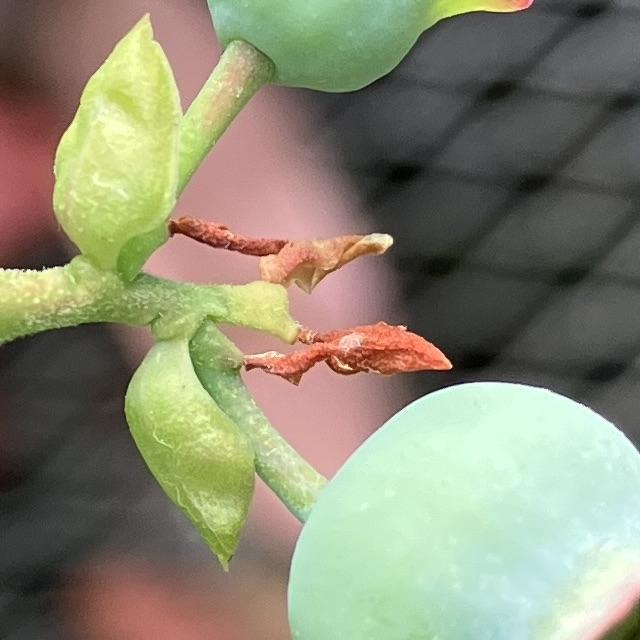Blueberries: (281, 374, 640, 640)
